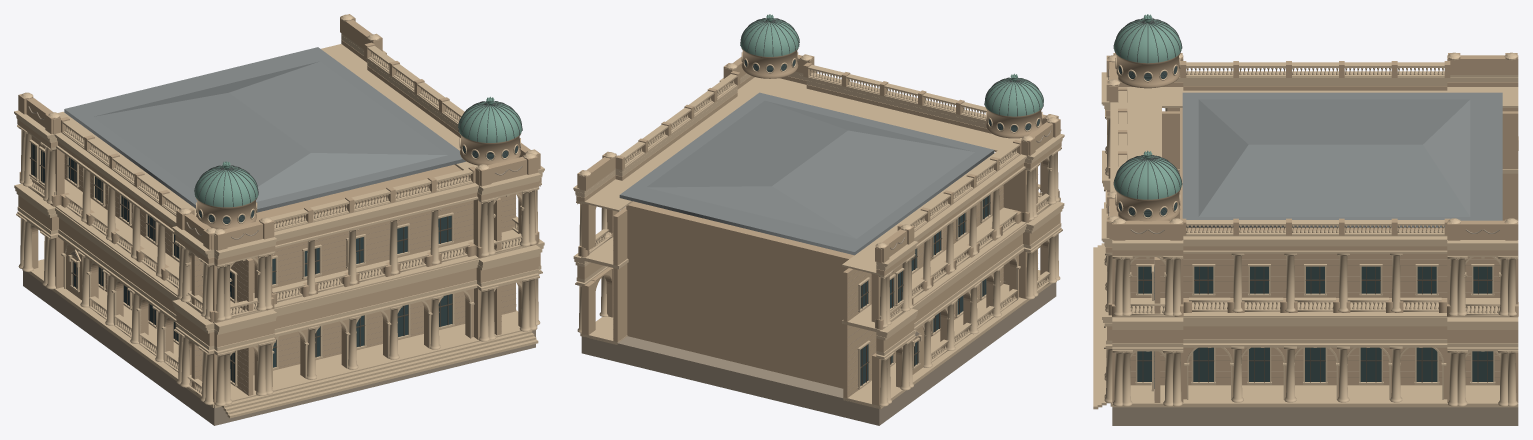
Rendered from post-office.glb.
3 views of the same model, side by side, from view 1: azimuth 30°, elevation 25°; view 2: azimuth 150°, elevation 25°; view 3: azimuth 270°, elevation 25° (orthographic). The views are drawn at different scales.
Parts seen in each view (by area): view 1: PO__main_roof__roof, PO__hunter_inner_wall__stone, PO__hunter_colonnade_floor__trim, PO__bolton_colonnade_floor__trim, PO__hunter_steps__trim, PO__foundation__darkstone, PO__bolton_inner_wall__stone, PO__east_colonnade_floor__trim, PO__cupola_0_copper__copper, PO__cupola_1_copper__copper, PO__central_envelope__stone, PO__hunter_ashlar_joints__mortar (+43 smaller); view 2: PO__main_roof__roof, PO__central_envelope__stone, PO__foundation__darkstone, PO__bolton_colonnade_floor__trim, PO__east_colonnade_floor__trim, PO__hunter_colonnade_floor__trim, PO__bolton_inner_wall__stone, PO__east_inner_wall__stone, PO__cupola_0_copper__copper, PO__cupola_1_copper__copper, PO__east_ground_bay_6__stone, PO__cupola_1_drum__stone (+21 smaller); view 3: PO__main_roof__roof, PO__east_inner_wall__stone, PO__east_colonnade_floor__trim, PO__foundation__darkstone, PO__bolton_inner_wall__stone, PO__bolton_colonnade_floor__trim, PO__cupola_1_copper__copper, PO__cupola_0_copper__copper, PO__hunter_colonnade_floor__trim, PO__hunter_steps__trim, PO__east_entablature_ground_0__trim, PO__east_entablature_ground_6__trim (+93 smaller).
Part boxes in pixels (x1,y1,x2,y2): PO__main_roof__roof: (64,47,465,212); PO__hunter_inner_wall__stone: (191,193,515,388); PO__hunter_colonnade_floor__trim: (201,177,536,408); PO__bolton_colonnade_floor__trim: (27,111,247,407); PO__hunter_steps__trim: (221,330,538,418); PO__foundation__darkstone: (23,271,535,425); PO__bolton_inner_wall__stone: (64,154,253,395); PO__east_colonnade_floor__trim: (321,44,537,328); PO__cupola_0_copper__copper: (194,161,258,207); PO__cupola_1_copper__copper: (458,96,521,142); PO__central_envelope__stone: (255,164,465,223); PO__hunter_ashlar_joints__mortar: (195,198,515,387); PO__main_roof__roof: (619,92,994,255); PO__central_envelope__stone: (626,201,854,388); PO__foundation__darkstone: (581,282,1056,425); PO__bolton_colonnade_floor__trim: (842,138,1052,409); PO__east_colonnade_floor__trim: (580,77,793,344); PO__hunter_colonnade_floor__trim: (741,77,1044,284); PO__bolton_inner_wall__stone: (843,185,1003,399); PO__east_inner_wall__stone: (613,207,627,342); PO__cupola_0_copper__copper: (985,73,1043,116); PO__cupola_1_copper__copper: (740,14,799,56); PO__east_ground_bay_6__stone: (581,267,613,335); PO__cupola_1_drum__stone: (741,48,798,78); PO__main_roof__roof: (1182,92,1502,227); PO__east_inner_wall__stone: (1130,253,1500,385); PO__east_colonnade_floor__trim: (1112,230,1518,407); PO__foundation__darkstone: (1112,407,1518,425); PO__bolton_inner_wall__stone: (1162,111,1518,220); PO__bolton_colonnade_floor__trim: (1118,87,1518,173); PO__cupola_1_copper__copper: (1114,150,1181,199); PO__cupola_0_copper__copper: (1114,14,1181,63); PO__hunter_colonnade_floor__trim: (1110,87,1161,406); PO__hunter_steps__trim: (1093,243,1110,409); PO__east_entablature_ground_0__trim: (1112,317,1183,351); PO__east_entablature_ground_6__trim: (1447,317,1518,351).
Bounding box in the file's own units: 30.52 × 21 × 31.24.
